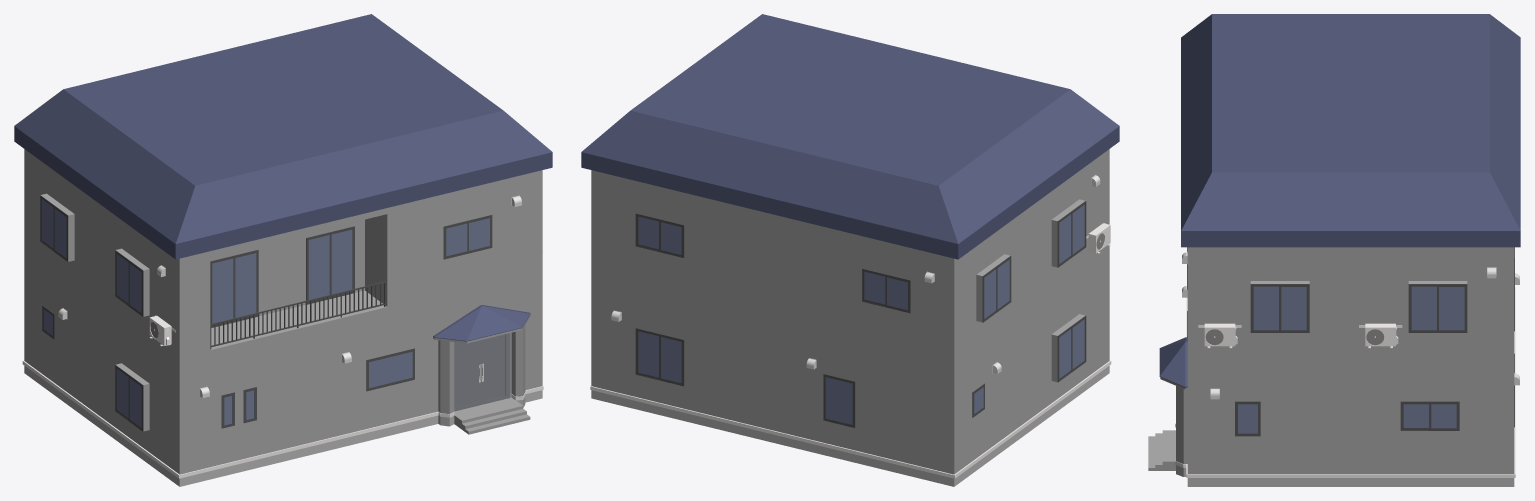
Rendered from MobHouse59.fbx.
3 renders of one model, left to right at view 1: azimuth 30°, elevation 25°; view 2: azimuth 150°, elevation 25°; view 3: azimuth 270°, elevation 25°, orthographic. The views are drawn at different scales.
Visible parts, largest first — view 1: Flat_half_house02.018; view 2: Flat_half_house02.018; view 3: Flat_half_house02.018.
Part boxes in pixels (left/top/right/bottom): Flat_half_house02.018: left=14, top=14, right=552, bottom=486; Flat_half_house02.018: left=581, top=14, right=1119, bottom=486; Flat_half_house02.018: left=1148, top=14, right=1520, bottom=486.
Bounding box in the file's own units: 10.27 × 7.33 × 8.23.
